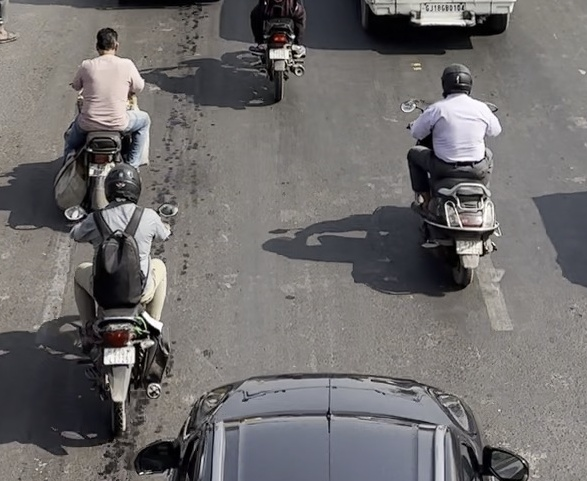BikeWithRider: (62, 163, 180, 435), (399, 60, 503, 290), (52, 25, 152, 219)
Helmet: (103, 164, 144, 206), (440, 61, 475, 99)
NoHelmet: (93, 27, 120, 58)
